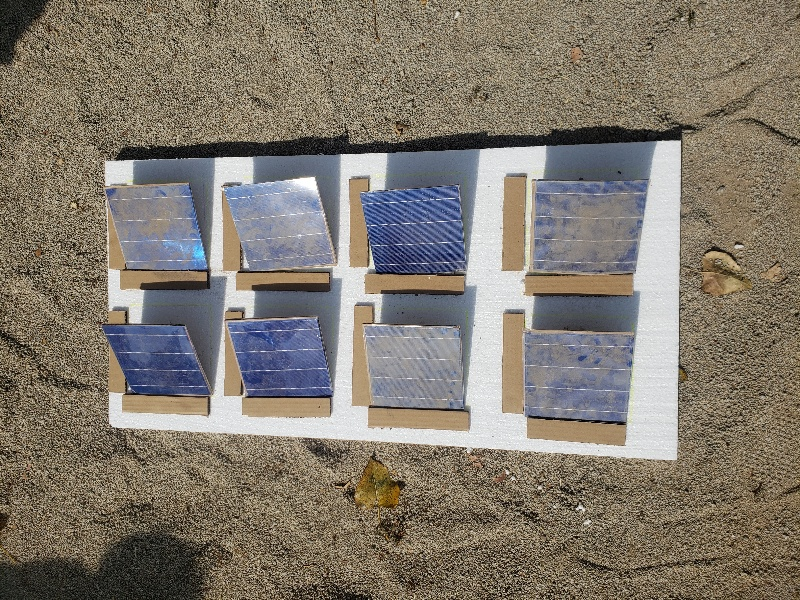clean: (92, 320, 221, 400), (362, 192, 475, 274)
dirty: (528, 179, 649, 277), (217, 173, 330, 271), (518, 332, 636, 423), (358, 324, 468, 412), (94, 186, 209, 269)
semi: (227, 322, 332, 394)
